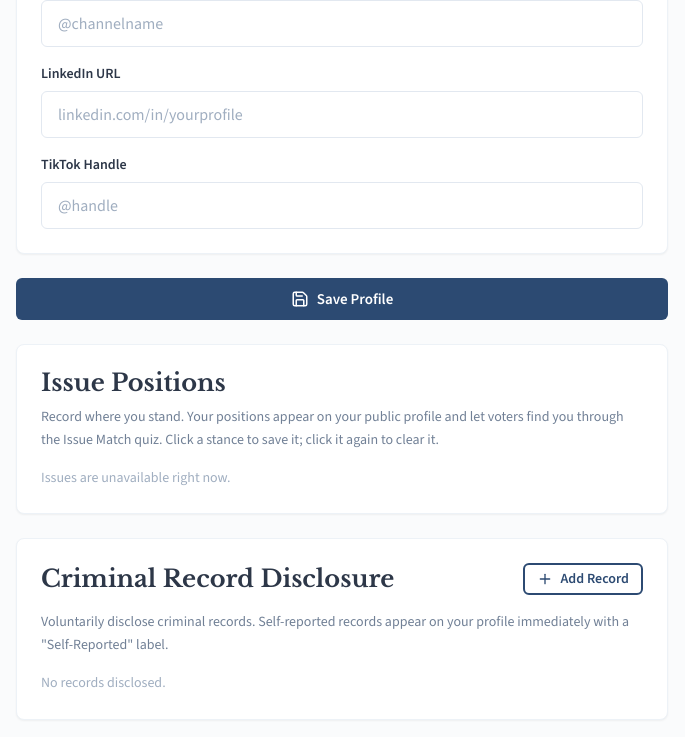
Test: CandidateEditPage › opens add record form when button is clicked
(page scrolled)
Click the button "Add Record" at (583, 579), box [522,563,643,595]
(page scrolled)
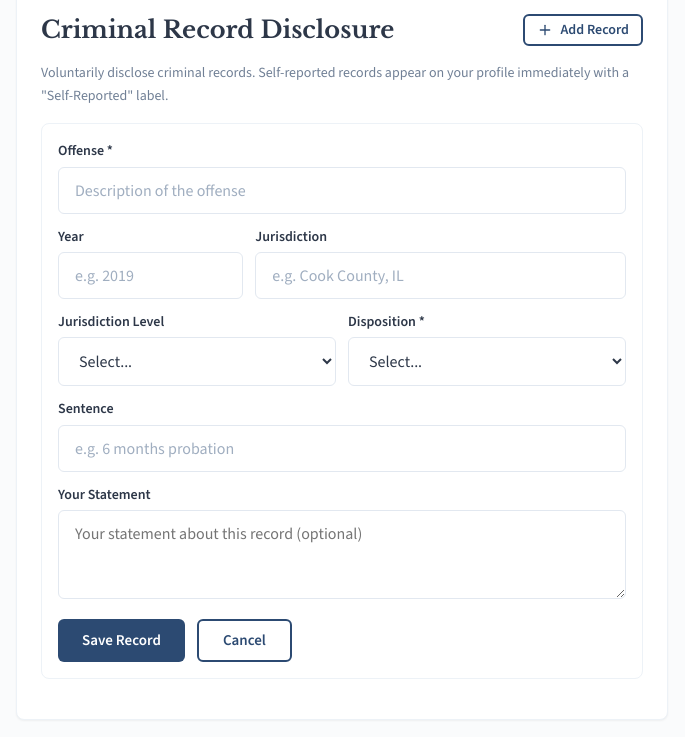
Result: the field with placeholder "Description of the offense" is shown at [58,167,626,214]
Result: the button "Save Record" is shown at [58,619,185,662]
